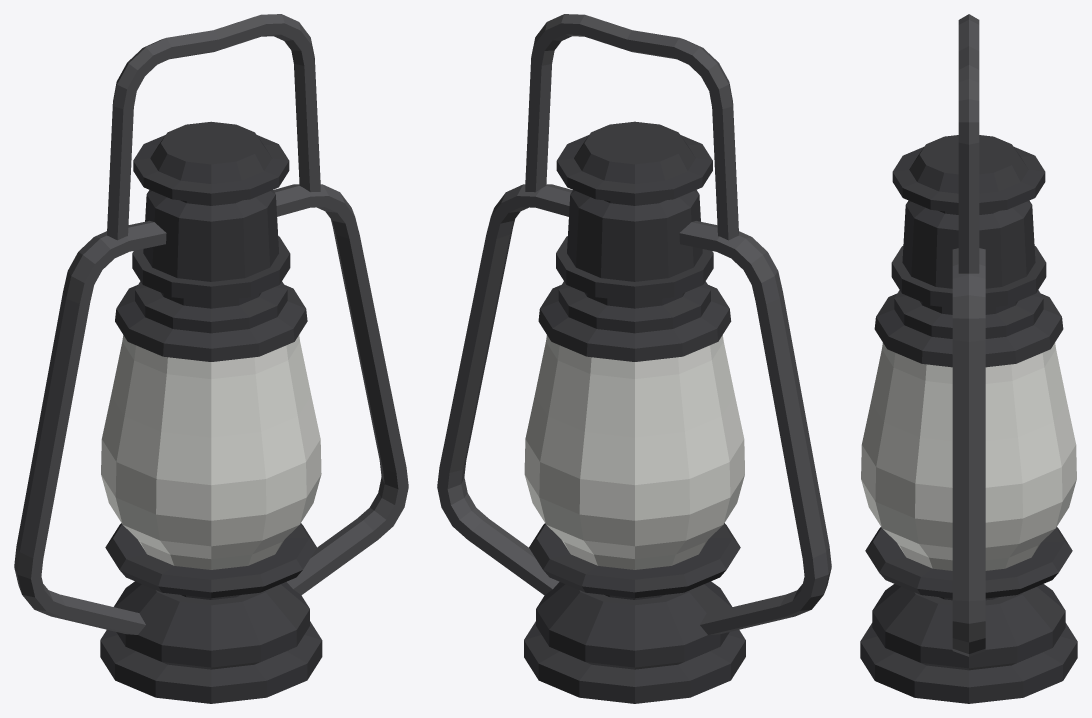
File: WF_LP_HT_Props_HandLamp.001.fbx
3 renders of one model, left to right at view 1: azimuth 30°, elevation 25°; view 2: azimuth 150°, elevation 25°; view 3: azimuth 270°, elevation 25°, orthographic. The views are drawn at different scales.
Visible parts, largest first — view 1: WF_LP_HT_Props_HandLamp.001; view 2: WF_LP_HT_Props_HandLamp.001; view 3: WF_LP_HT_Props_HandLamp.001.
Part boxes in pixels (<box>): WF_LP_HT_Props_HandLamp.001: <box>14,14,408,703</box>; WF_LP_HT_Props_HandLamp.001: <box>437,14,831,703</box>; WF_LP_HT_Props_HandLamp.001: <box>860,14,1077,703</box>.
Size of the model in its own units: 0.2914 by 0.4518 by 0.1443.
